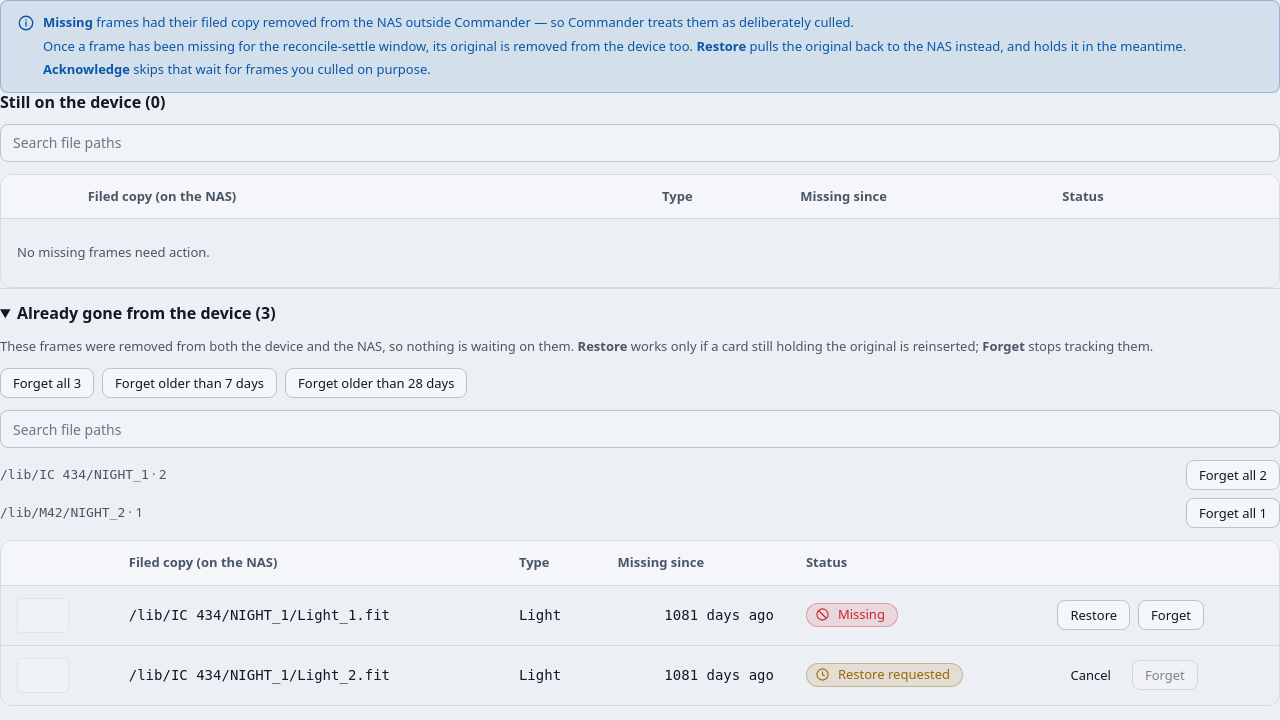
it: MissingFrames › Forget › treats 202 FORGET_QUEUED as success and refreshes
The width and height of the screenshot is (1280, 720).
Click the button "Forget all 3": (47, 383) [0,368,94,398]
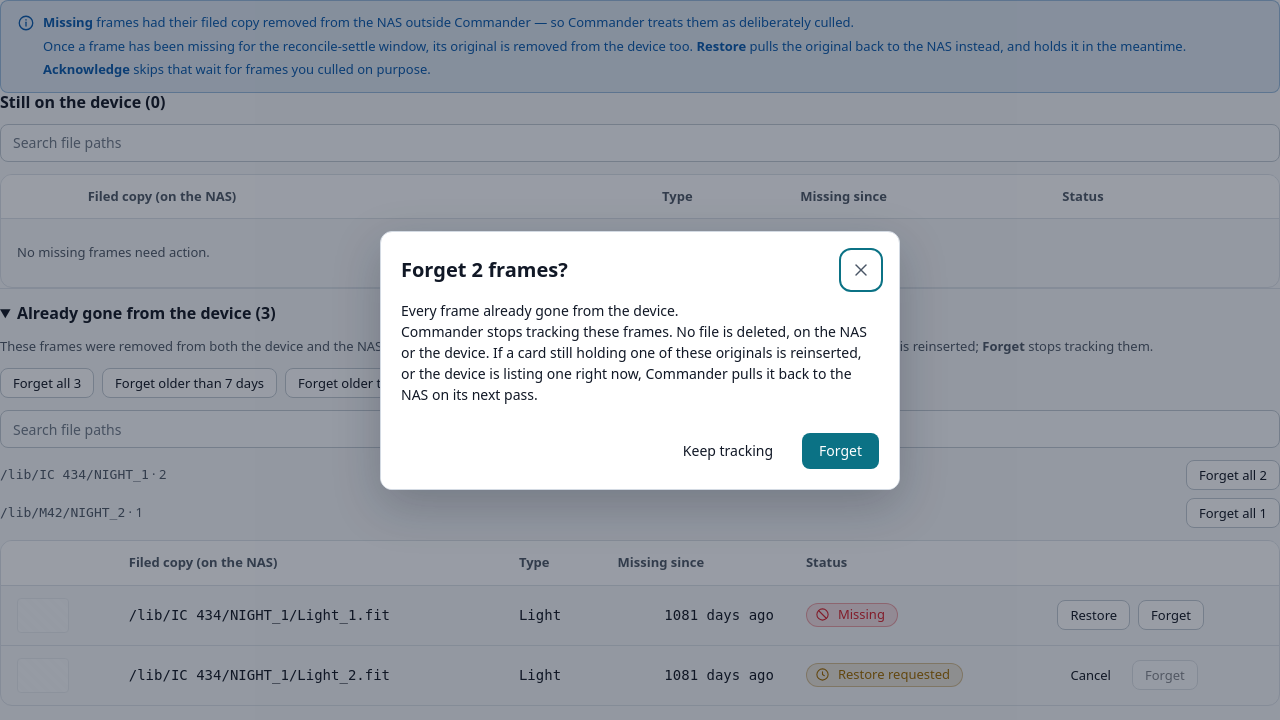
Click the button "Forget": (840, 450) [802,432,879,468]
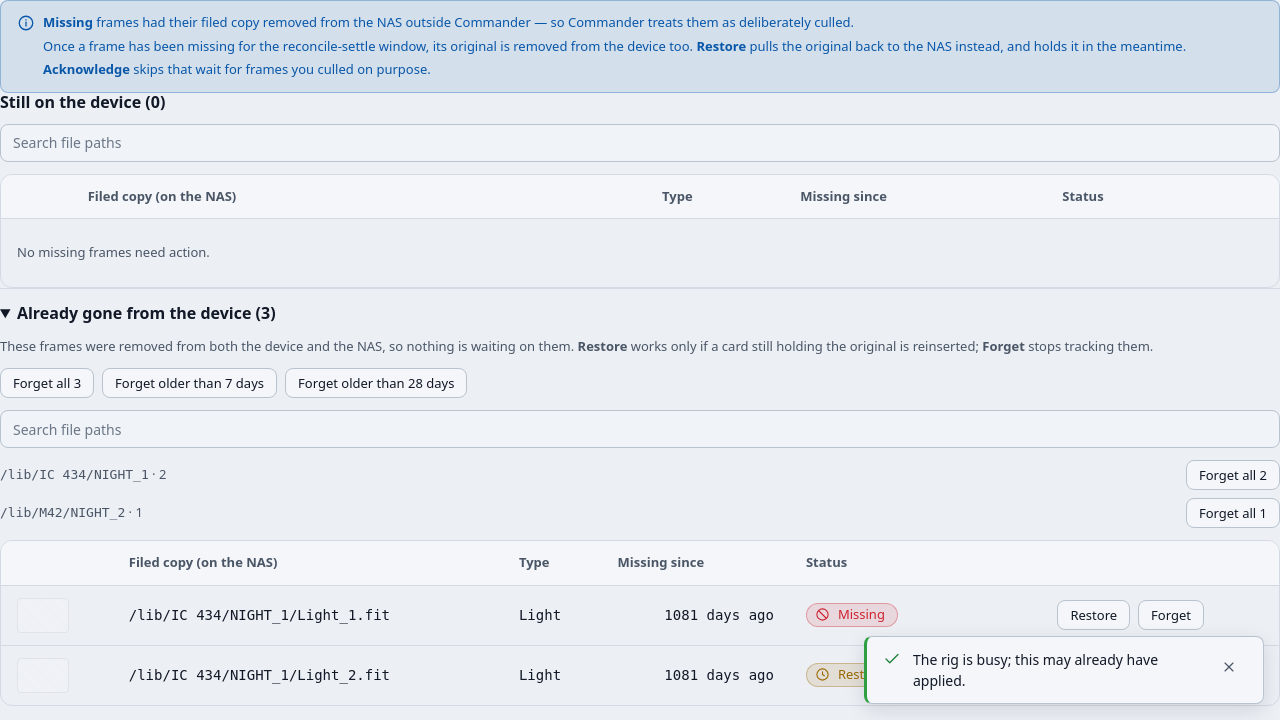
Result: the dialog is gone
Result: the text "The rig is busy; this may already have applied." is shown at [913,649,1199,691]
